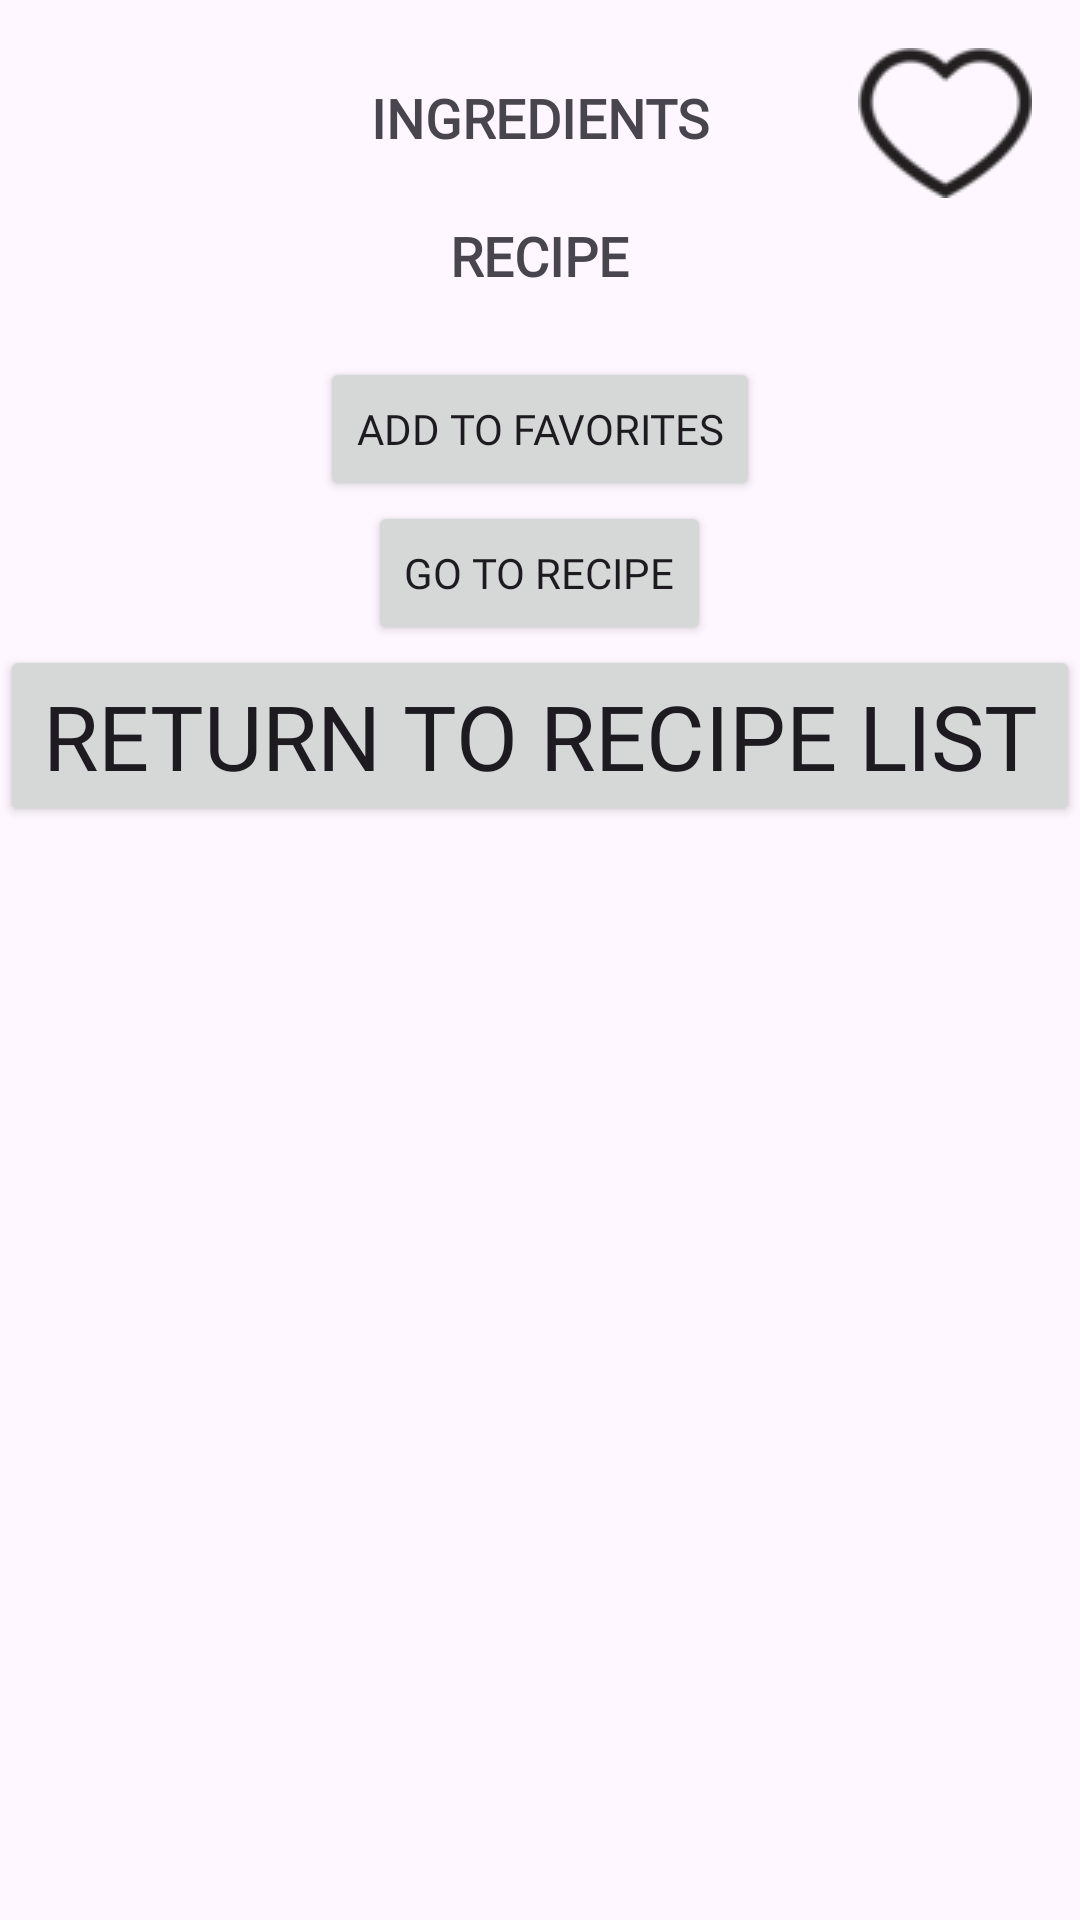

Locate icon controls on the screen. Image size 1080×1920, boxes as BBox(x1, y1, x2, y2).
heart empty: BBox(858, 48, 1032, 198)
